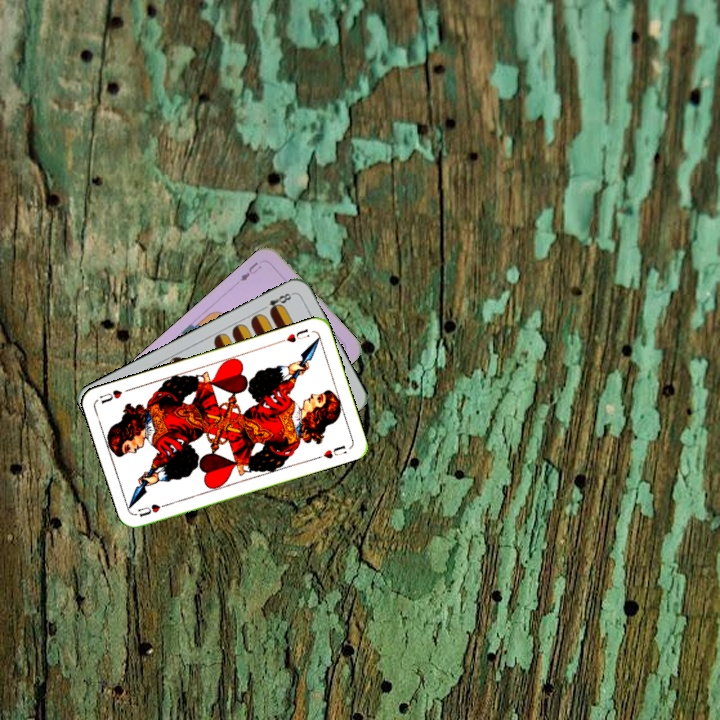E8: (258, 289, 296, 315)
EU: (236, 258, 264, 284)
HU: (134, 499, 172, 520), (275, 325, 312, 345)
